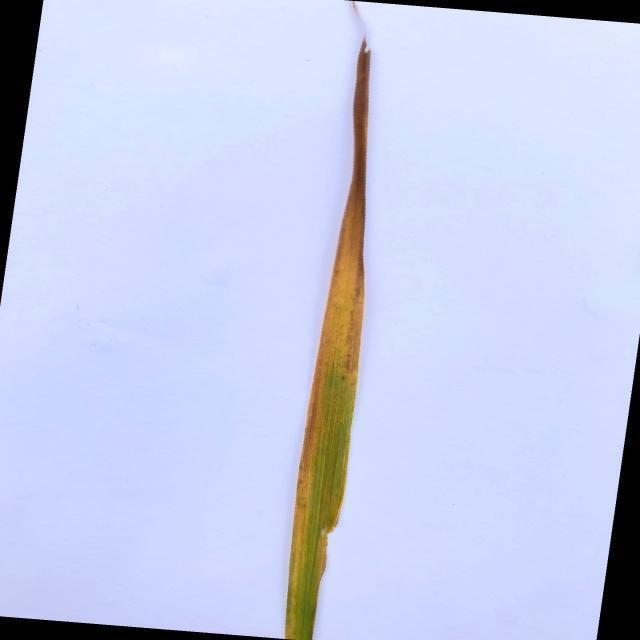Rice Tungro: (289, 37, 388, 640)
